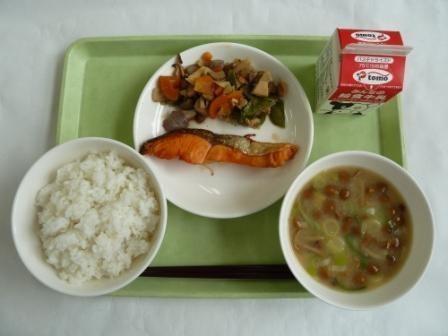Fish: (132, 118, 303, 180)
Milk: (311, 23, 406, 113)
Rice: (10, 131, 158, 283)
Soups: (288, 162, 430, 294)
vegetable based cooked food: (140, 40, 294, 124)
